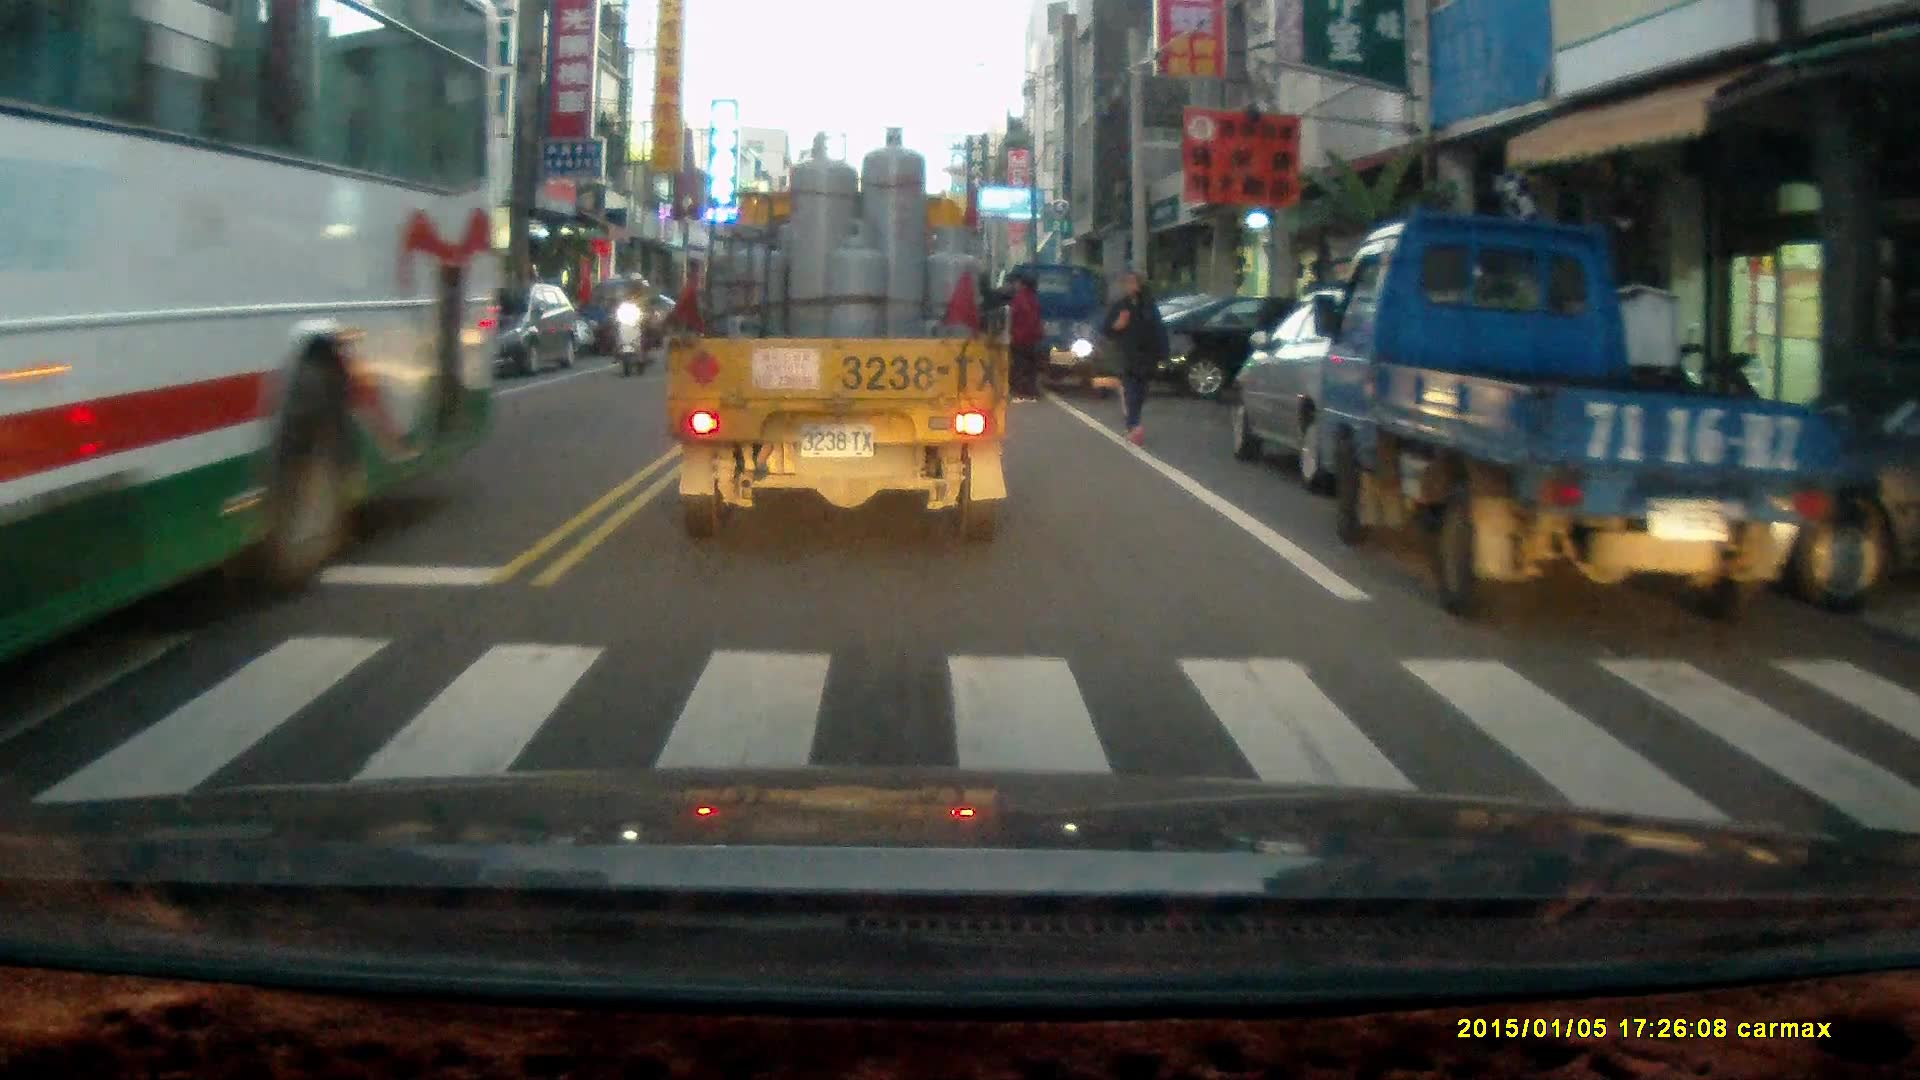pedestrian: (1102, 269, 1168, 441), (1005, 272, 1042, 402)
rider: (611, 269, 656, 378)
vehicle: (1, 2, 505, 674), (1311, 209, 1823, 625), (666, 125, 1015, 547), (1224, 281, 1529, 499), (1143, 288, 1397, 408), (994, 261, 1129, 397), (453, 281, 582, 377), (578, 277, 670, 360)
